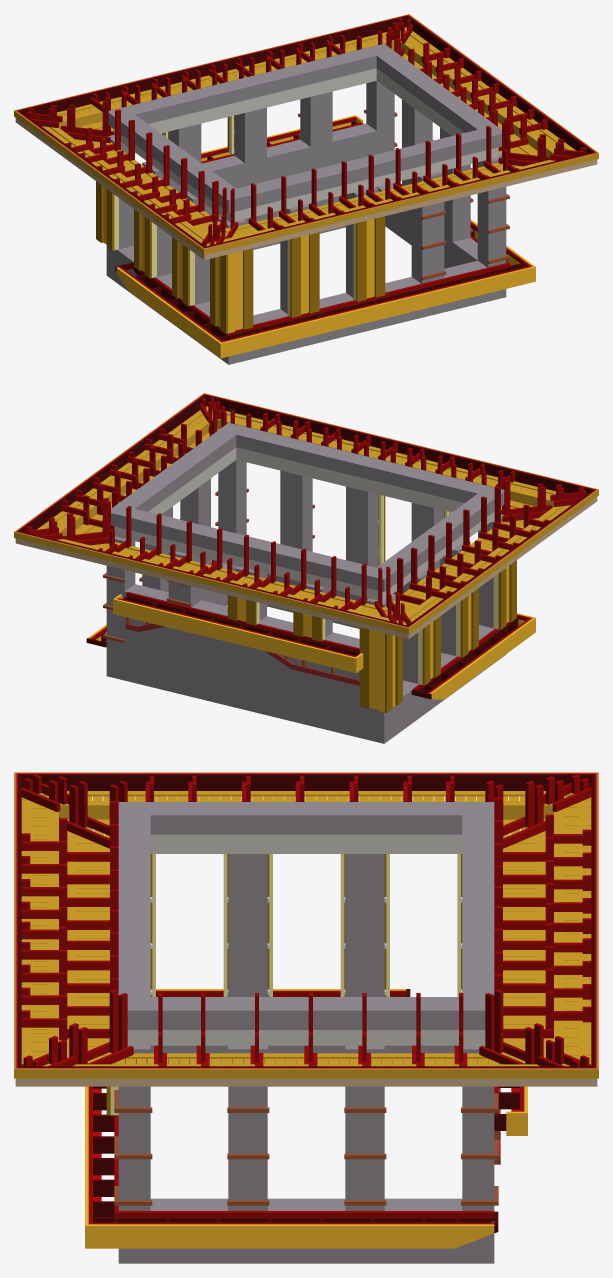
File: yantarka_end.glb
The picture shows the model from 3 angles, top to bottom: view 1: azimuth 30°, elevation 25°; view 2: azimuth 150°, elevation 25°; view 3: azimuth 270°, elevation 25°; orthographic projection. The views are drawn at different scales.
Visible parts, largest first — view 1: Базовая стена 1 этаж. Газобето_0e9fc40, Базовая стена 1 этаж. Газобето_9dc9d03, Перекрытие Башня. пояс [1185363], Базовая стена 1 этаж. Газобето_2de0861, Базовая стена 1 этаж. Газобето_584556d, Базовая стена 1 этаж. Газобето_f34fc30, Базовая стена 1 этаж. Газобето_6445270, Деревянный брус Карнизка [1301785], Базовая стена 1 этаж. Газобето_7c2d405, Деревянный брус Лобовая доска_f165eeb, Деревянный брус Лобовая доска_50d2514, Деревянный брус Лобовая доска_9971c9e (+38 smaller); view 2: Базовая стена 1 этаж. Газобето_0e9fc40, Базовая стена 1 этаж. Газобето_9dc9d03, Перекрытие Башня. пояс [1185363], Базовая стена 1 этаж. Газобето_584556d, Базовая стена 1 этаж. Газобето_2de0861, Базовая стена 1 этаж. Газобето_6445270, Деревянный брус Карнизка [1301591], Базовая стена 1 этаж. Газобето_7c2d405, Деревянный брус Лобовая доска_65cadd0, Базовая стена 1 этаж. Газобето_89d6eb5, Деревянный брус Лобовая доска_e4618ed, Деревянный брус Лобовая доска_b8ff526 (+35 smaller); view 3: Базовая стена 1 этаж. Газобето_f34fc30, Базовая стена 1 этаж. Газобето_6445270, Перекрытие Башня. пояс [1185363], Базовая стена 1 этаж. Газобето_89d6eb5, Базовая стена 1 этаж. Газобето_7c2d405, Деревянный брус Карнизка [1301879], Базовая стена 1 этаж. Газобето_584556d, Базовая стена 1 этаж. Газобето_2de0861, Деревянный брус Лобовая доска_964e59a, Деревянный брус Лобовая доска_69be403, Деревянный брус Лобовая доска_f08c742, Деревянный брус Лобовая доска_2d5b761 (+24 smaller).
Part boxes in pixels (left/top/right/bottom): Базовая стена 1 этаж. Газобето_0e9fc40: left=168, top=81, right=394, bottom=249; Базовая стена 1 этаж. Газобето_9dc9d03: left=218, top=153, right=506, bottom=364; Перекрытие Башня. пояс [1185363]: left=114, top=68, right=498, bottom=221; Базовая стена 1 этаж. Газобето_2de0861: left=108, top=44, right=393, bottom=129; Базовая стена 1 этаж. Газобето_584556d: left=218, top=125, right=501, bottom=212; Базовая стена 1 этаж. Газобето_f34fc30: left=376, top=99, right=477, bottom=268; Базовая стена 1 этаж. Газобето_6445270: left=106, top=135, right=217, bottom=356; Деревянный брус Карнизка [1301785]: left=17, top=15, right=407, bottom=114; Базовая стена 1 этаж. Газобето_7c2d405: left=376, top=51, right=495, bottom=132; Деревянный брус Лобовая доска_f165eeb: left=220, top=266, right=535, bottom=350; Деревянный брус Лобовая доска_50d2514: left=204, top=153, right=598, bottom=255; Деревянный брус Лобовая доска_9971c9e: left=220, top=274, right=535, bottom=358; Базовая стена 1 этаж. Газобето_0e9fc40: left=106, top=536, right=366, bottom=739; Базовая стена 1 этаж. Газобето_9dc9d03: left=218, top=460, right=505, bottom=661; Перекрытие Башня. пояс [1185363]: left=114, top=447, right=494, bottom=600; Базовая стена 1 этаж. Газобето_584556d: left=219, top=423, right=504, bottom=506; Базовая стена 1 этаж. Газобето_2de0861: left=111, top=504, right=394, bottom=591; Базовая стена 1 этаж. Газобето_6445270: left=366, top=541, right=495, bottom=743; Деревянный брус Карнизка [1301591]: left=205, top=394, right=595, bottom=493; Базовая стена 1 этаж. Газобето_7c2d405: left=117, top=430, right=236, bottom=511; Деревянный брус Лобовая доска_65cadd0: left=14, top=532, right=408, bottom=634; Базовая стена 1 этаж. Газобето_89d6eb5: left=377, top=493, right=494, bottom=584; Деревянный брус Лобовая доска_e4618ed: left=15, top=538, right=408, bottom=639; Деревянный брус Лобовая доска_b8ff526: left=115, top=599, right=354, bottom=665; Базовая стена 1 этаж. Газобето_f34fc30: left=150, top=1045, right=462, bottom=1263; Базовая стена 1 этаж. Газобето_6445270: left=150, top=854, right=454, bottom=1064; Перекрытие Башня. пояс [1185363]: left=127, top=834, right=485, bottom=1045; Базовая стена 1 этаж. Газобето_89d6eb5: left=150, top=802, right=462, bottom=834; Базовая стена 1 этаж. Газобето_7c2d405: left=150, top=997, right=458, bottom=1029; Деревянный брус Карнизка [1301879]: left=18, top=774, right=594, bottom=790; Базовая стена 1 этаж. Газобето_584556d: left=118, top=802, right=150, bottom=1029; Базовая стена 1 этаж. Газобето_2de0861: left=462, top=802, right=494, bottom=1029; Деревянный брус Лобовая доска_964e59a: left=14, top=1068, right=598, bottom=1078; Деревянный брус Лобовая доска_69be403: left=85, top=1224, right=494, bottom=1237; Деревянный брус Лобовая доска_f08c742: left=15, top=1078, right=597, bottom=1086; Деревянный брус Лобовая доска_2d5b761: left=85, top=1237, right=483, bottom=1248.
Bounding box in the file's own units: 8.23 × 3.5 × 6.85.
